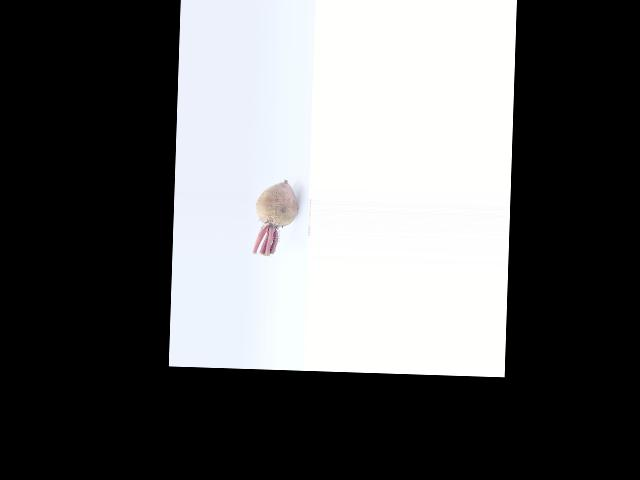beet: (253, 179, 298, 256)
